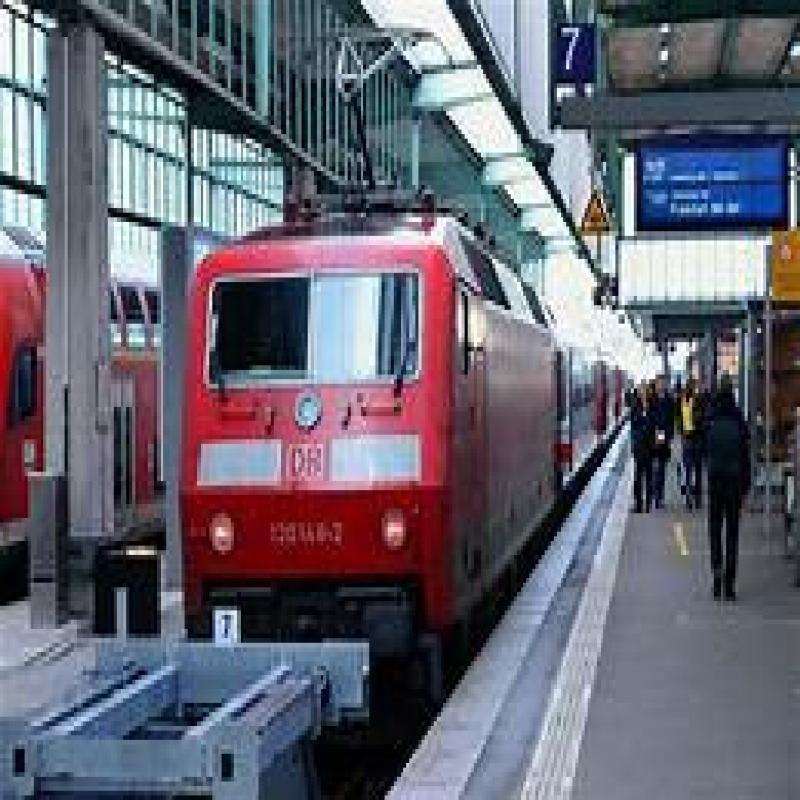train: (164, 205, 595, 621)
